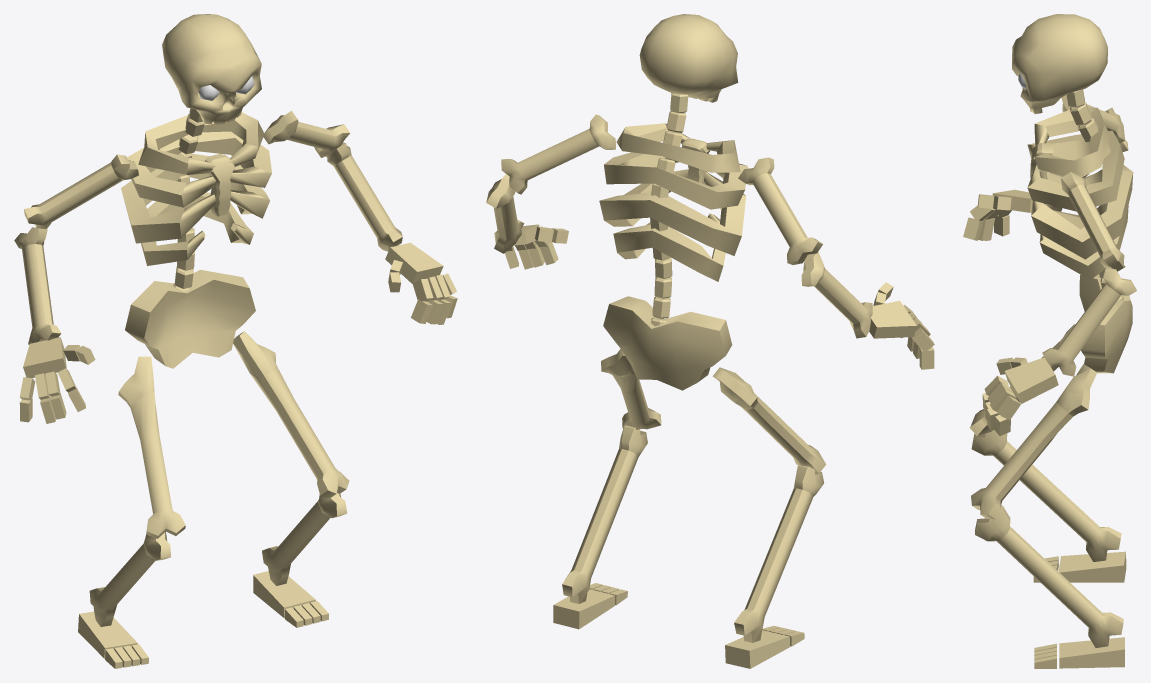
Rendered from skeleton_NOJAW_frame02.fbx.
3 renders of one model, left to right at view 1: azimuth 30°, elevation 25°; view 2: azimuth 150°, elevation 25°; view 3: azimuth 270°, elevation 25°, orthographic. The views are drawn at different scales.
Visible parts, largest first — view 1: skeleton_incharacter_frame2; view 2: skeleton_incharacter_frame2; view 3: skeleton_incharacter_frame2.
Boxes of the visible parts, box(x1,y1,x2,y2) form: skeleton_incharacter_frame2: box(14, 14, 457, 668); skeleton_incharacter_frame2: box(486, 14, 934, 668); skeleton_incharacter_frame2: box(963, 14, 1136, 668).
Size of the model in its own units: 119 by 159 by 41.84.
